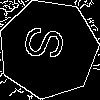S: (23, 24, 74, 64)
